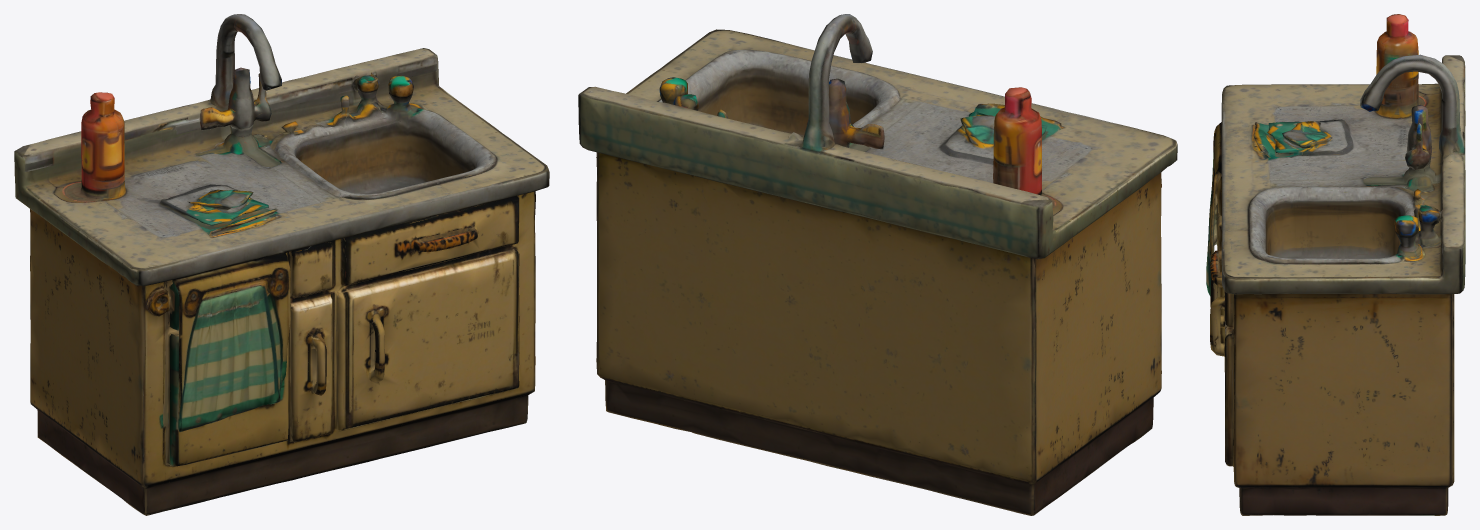
Rendered from Meshy_AI_Pia_0124081632_texture.glb.
3 renders of one model, left to right at view 1: azimuth 30°, elevation 25°; view 2: azimuth 150°, elevation 25°; view 3: azimuth 270°, elevation 25°, orthographic. The views are drawn at different scales.
Bounding box in the file's own units: 2.01 × 1.78 × 1.13.
Materials: 1 (1 with a texture image).
